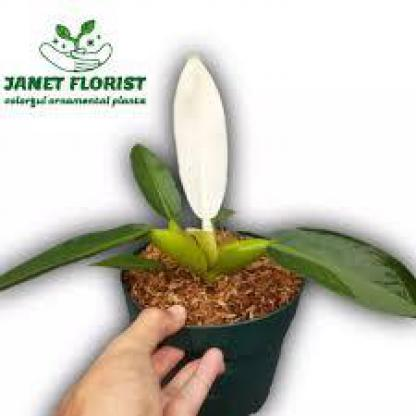Kenanga: (68, 78, 353, 340)
